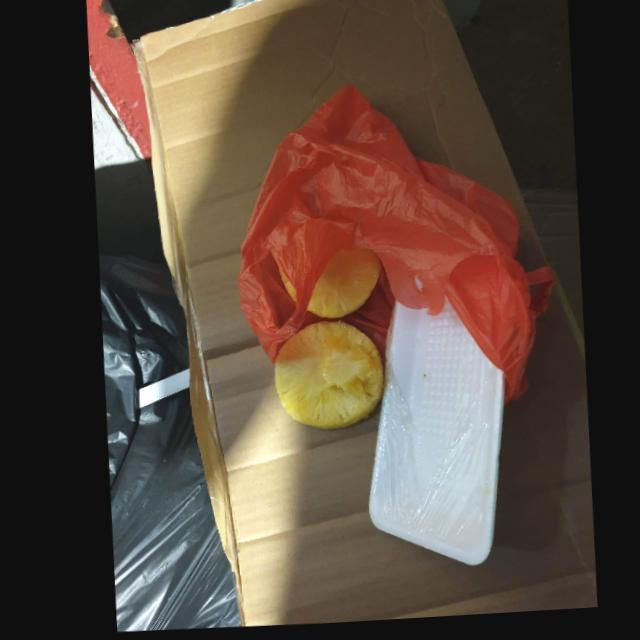plastic_bag: (236, 90, 553, 411)
